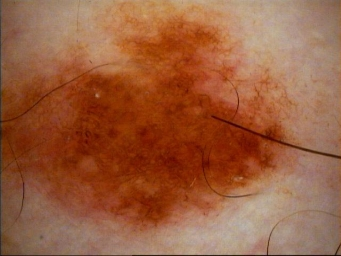melanoma: (1, 20, 286, 228)
